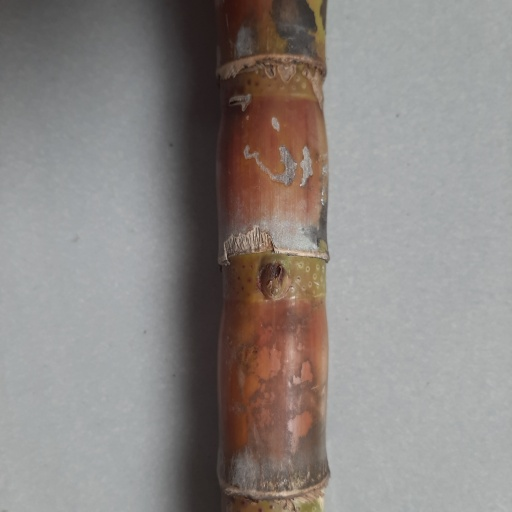Bud: (257, 260, 292, 301)
